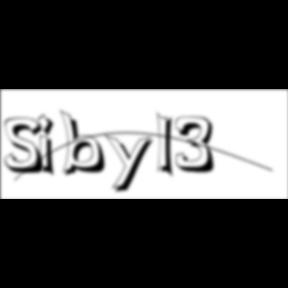3: (176, 116, 222, 176)
I: (157, 110, 181, 182)
S: (5, 117, 51, 176)
b: (60, 109, 112, 179)
i: (38, 112, 62, 180)
y: (105, 132, 159, 196)
